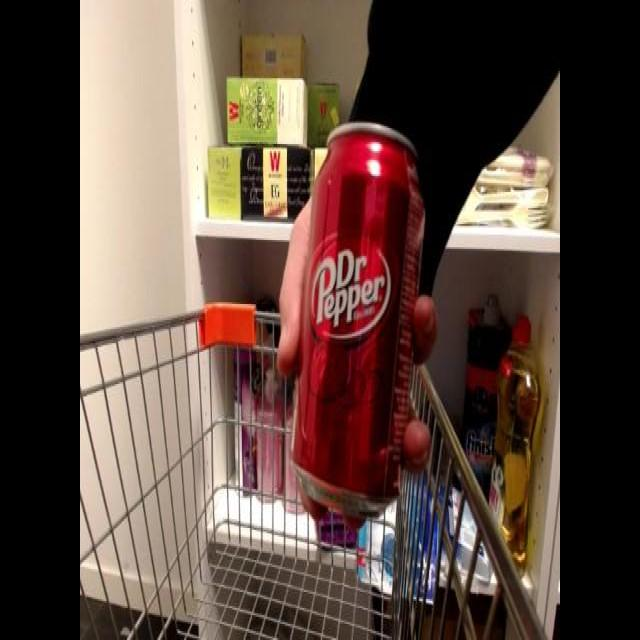Dr Pepper: (289, 121, 431, 531)
